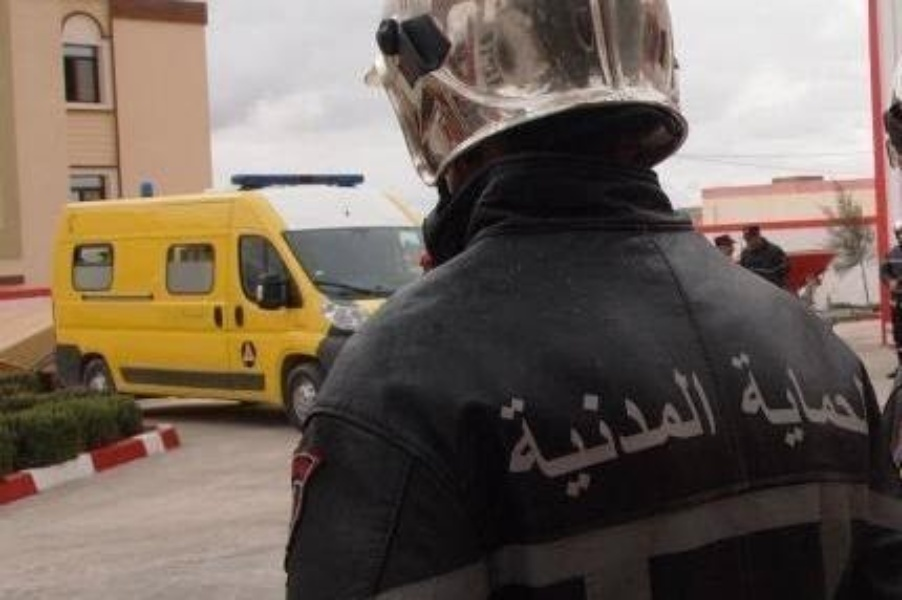text: (481, 363, 496, 523), (497, 363, 512, 523), (513, 363, 528, 523), (529, 363, 544, 523), (545, 363, 560, 523), (561, 363, 576, 523), (577, 363, 592, 523), (593, 363, 608, 523), (609, 363, 624, 523), (625, 363, 640, 523), (641, 363, 656, 523), (657, 363, 672, 523), (673, 363, 688, 523), (689, 363, 704, 523), (705, 363, 720, 523), (737, 349, 752, 456), (753, 349, 768, 456), (769, 349, 784, 456), (785, 349, 800, 456), (801, 349, 816, 456), (817, 349, 832, 456), (833, 349, 848, 456), (849, 349, 864, 456), (726, 349, 736, 456), (865, 349, 873, 456), (721, 363, 724, 523)
